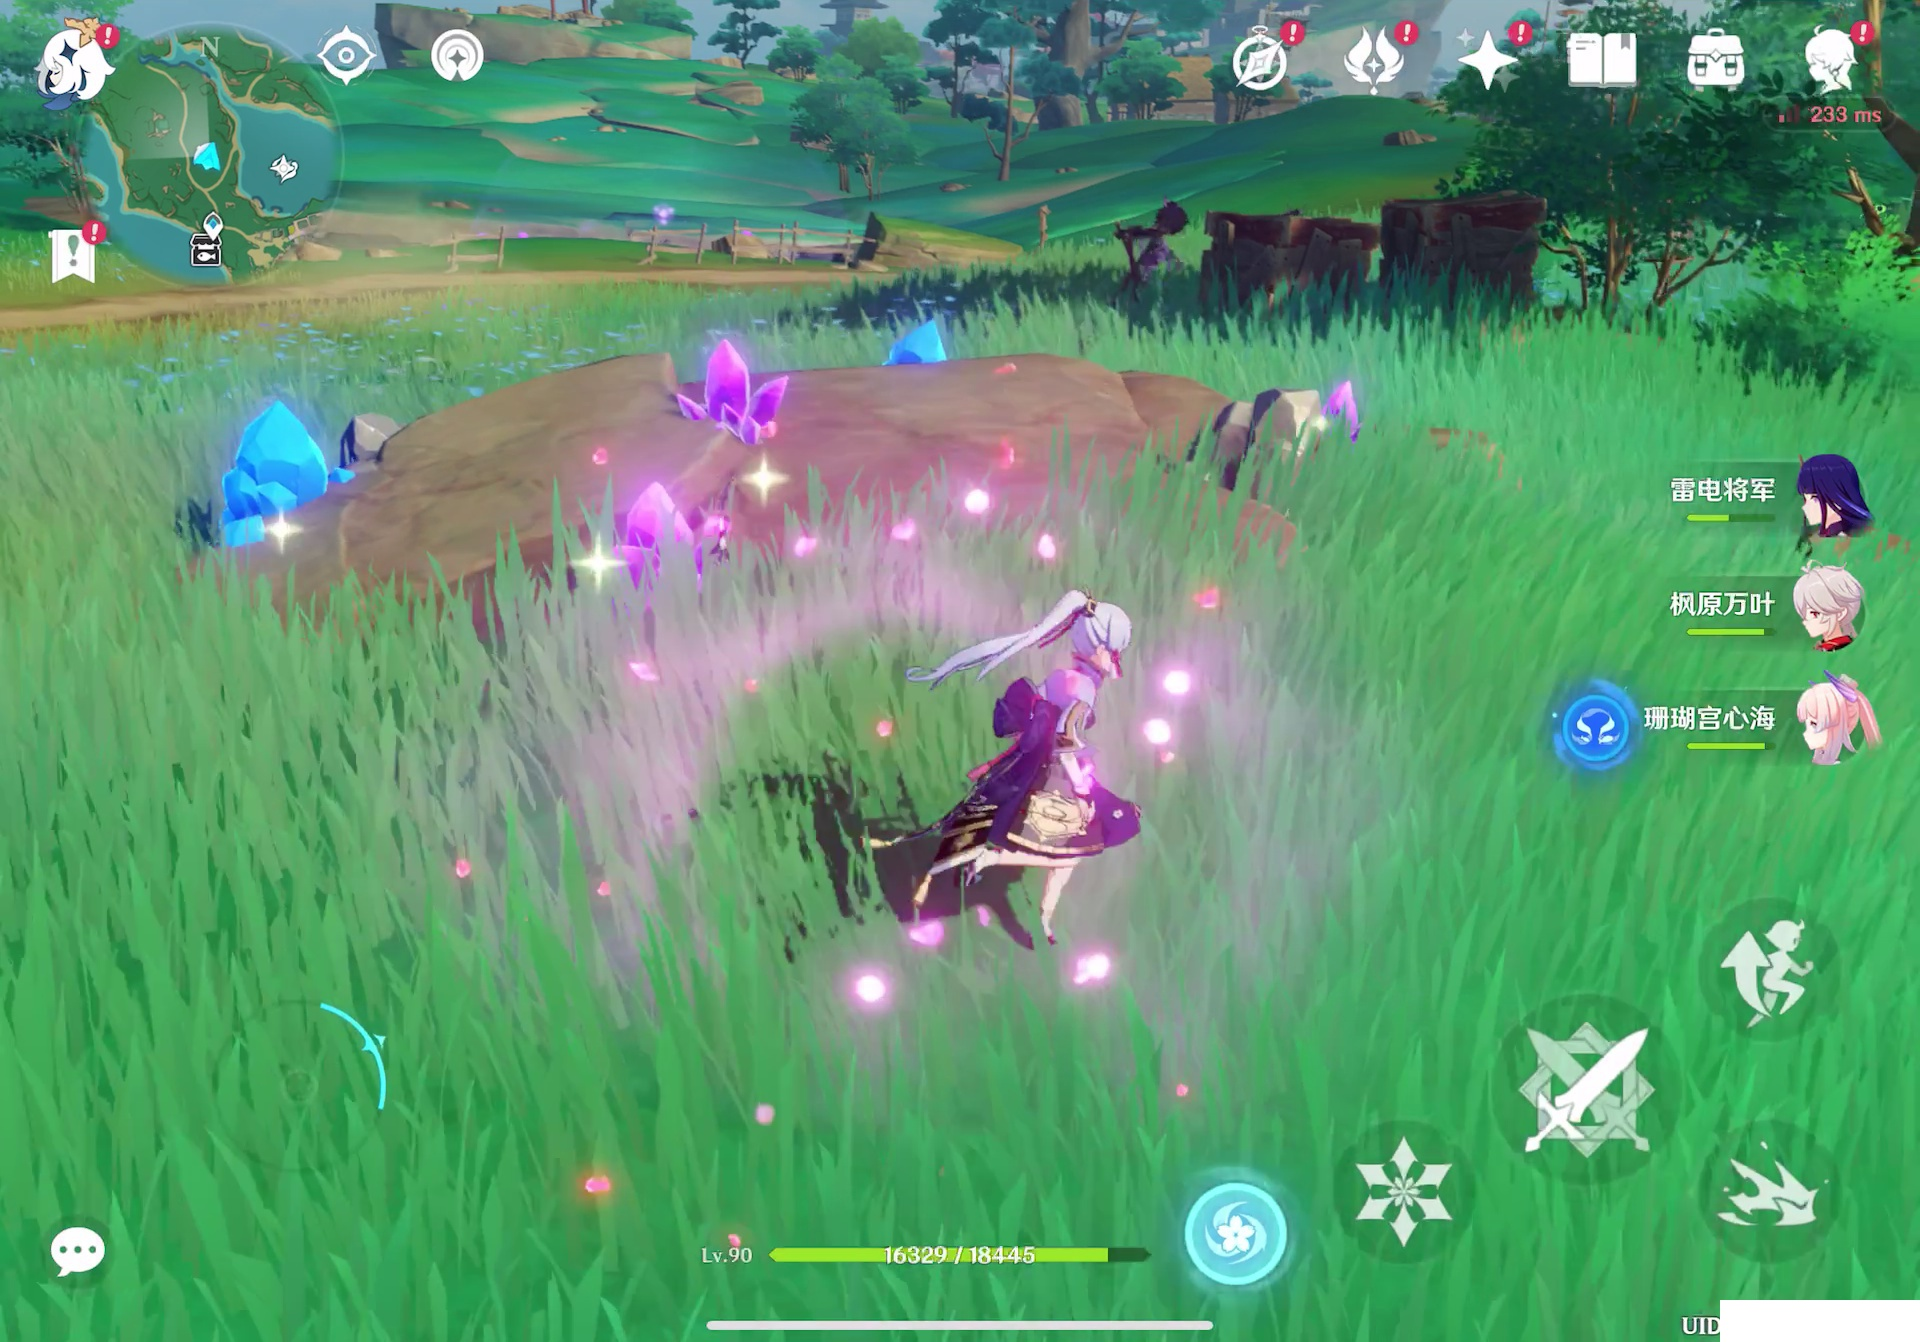白铁矿石: (1183, 384, 1312, 493), (349, 403, 411, 458)
神里绫龟: (918, 578, 1150, 961)
紫矿石: (671, 338, 789, 449), (587, 484, 718, 578), (1331, 379, 1369, 430)
蓝矿石: (214, 394, 341, 528), (883, 314, 948, 369)
